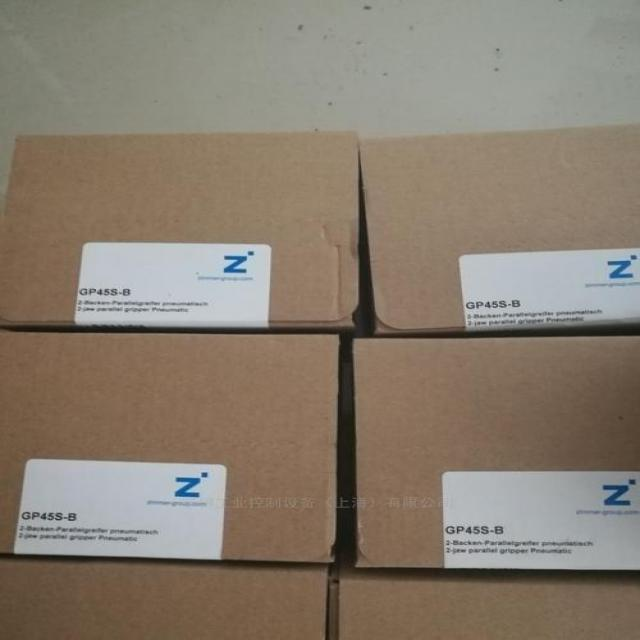box: (0, 325, 359, 565), (339, 320, 640, 584), (0, 133, 383, 334), (336, 125, 640, 337)
